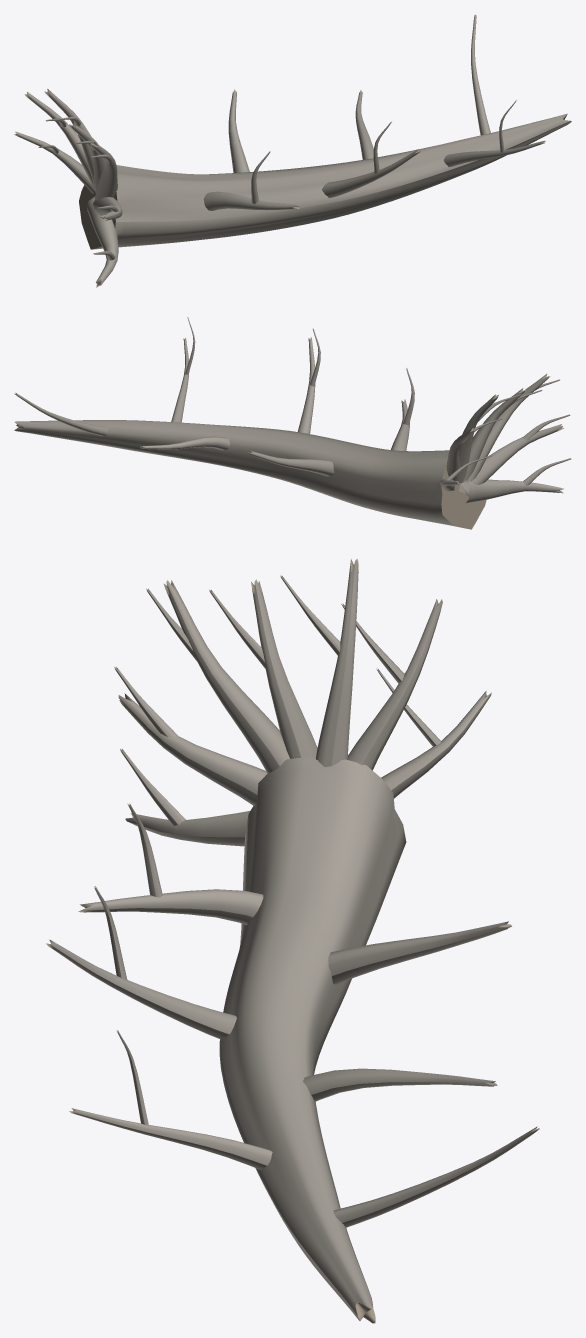
The model's file is corealm_deadwood_fallen.glb.
3 renders of one model, top to bottom at view 1: azimuth 30°, elevation 25°; view 2: azimuth 150°, elevation 25°; view 3: azimuth 270°, elevation 25°, orthographic. The views are drawn at different scales.
Parts seen in each view (by area): view 1: corealm_deadwood_fallen; view 2: corealm_deadwood_fallen; view 3: corealm_deadwood_fallen.
Boxes of the visible parts, x1,y1,x2,y2 form: corealm_deadwood_fallen: (14,14,571,287); corealm_deadwood_fallen: (14,317,571,529); corealm_deadwood_fallen: (46,559,539,1323).
Bounding box in the file's own units: 9.42 × 2.86 × 4.07.
